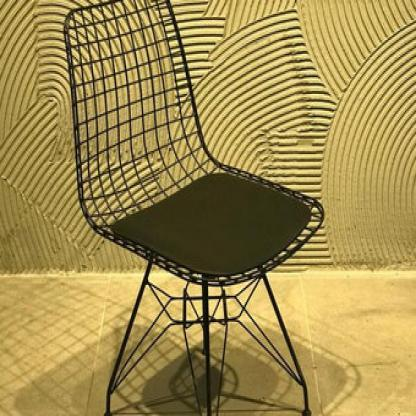chair: (53, 2, 330, 416)
